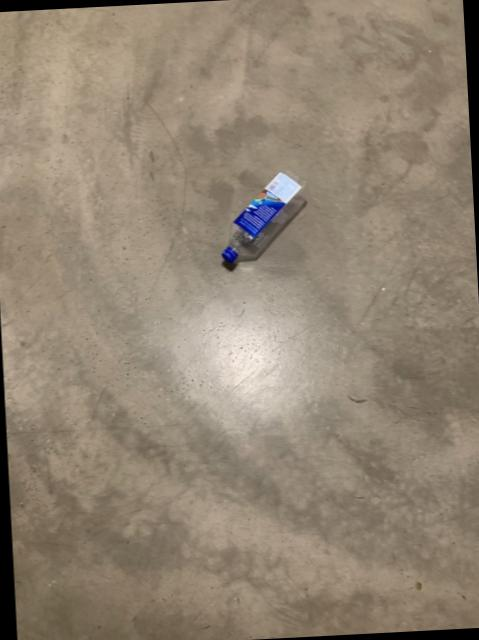plastic: (223, 175, 306, 265)
